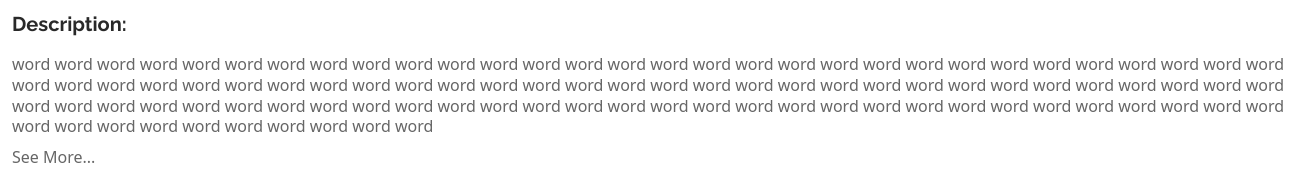
Test: ProductDescription › expands and collapses a long description
Click the button "See More...": (54, 158) [12,147,95,168]
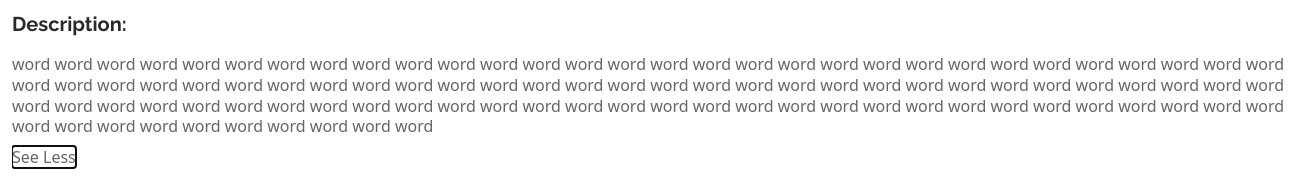
Check: the button "See Less" is expanded
Click the button "See Less": (44, 158) [12,147,76,168]
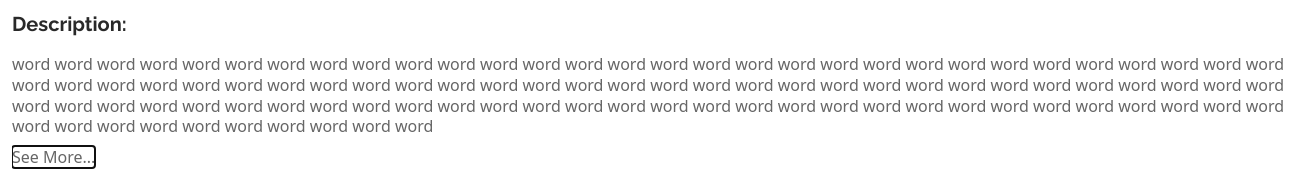
Check: the button "See More..." is collapsed, box [12,147,95,168]
